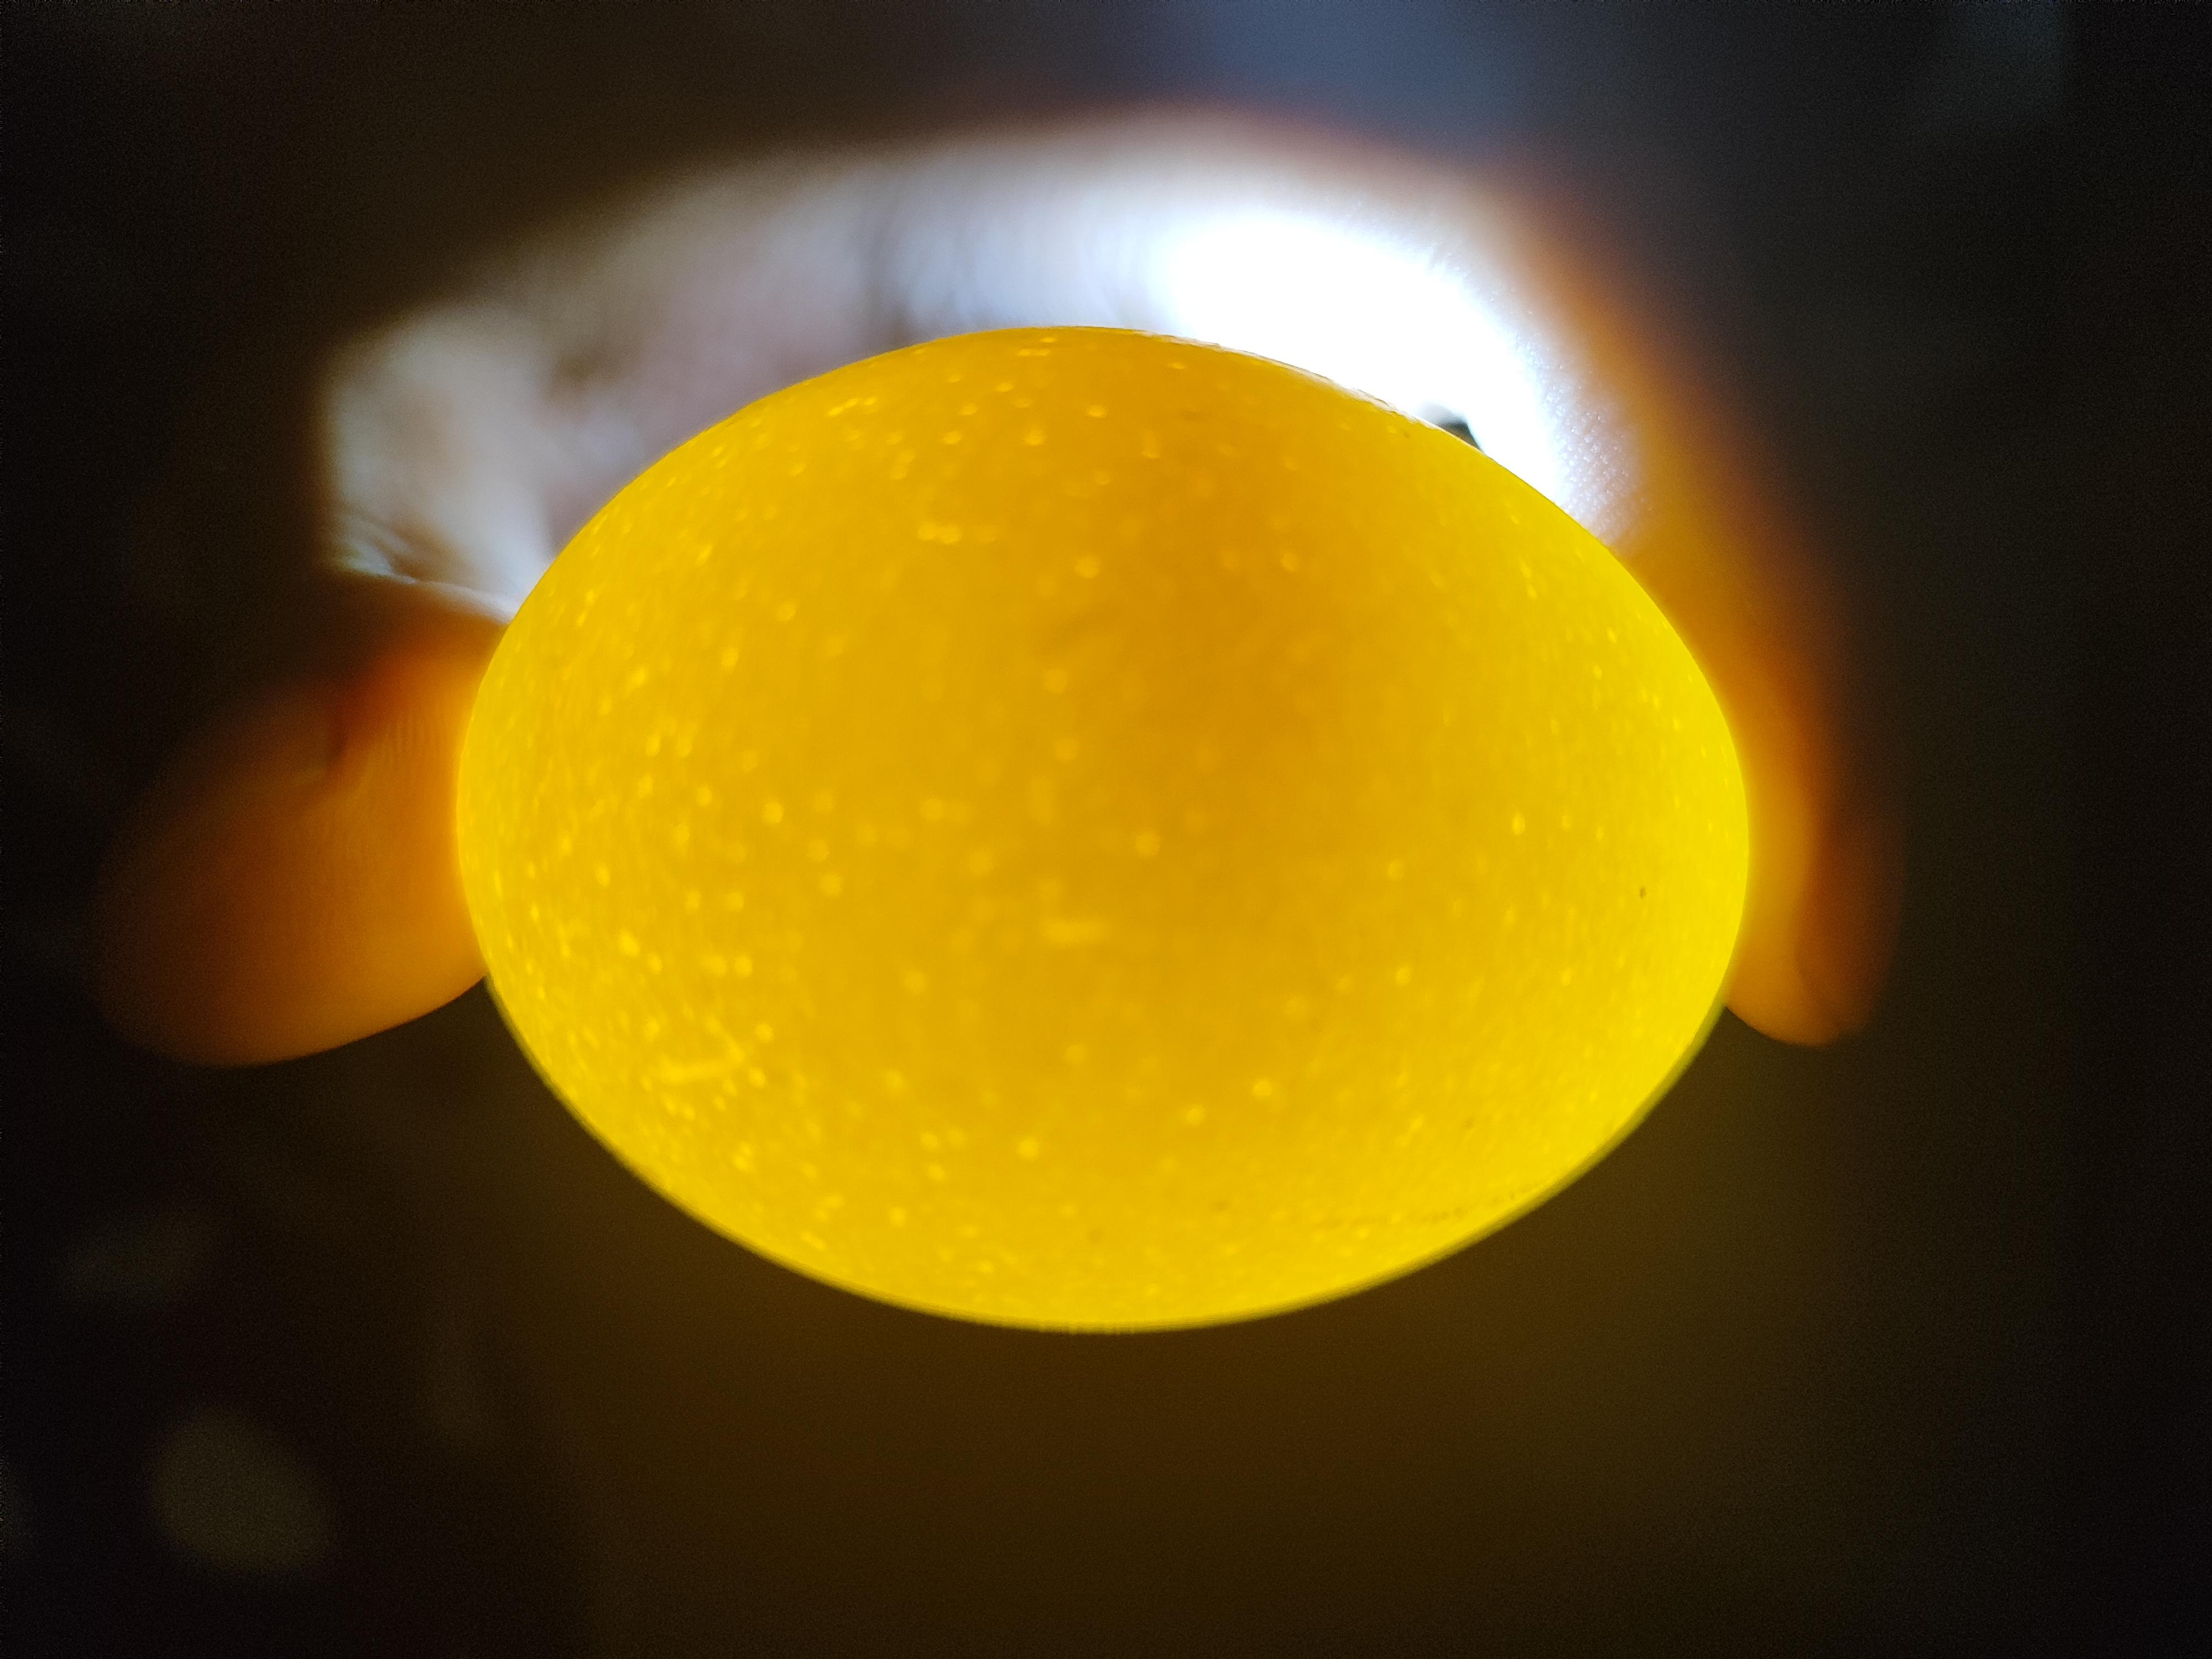AA - Premium: (439, 307, 1759, 1349)
